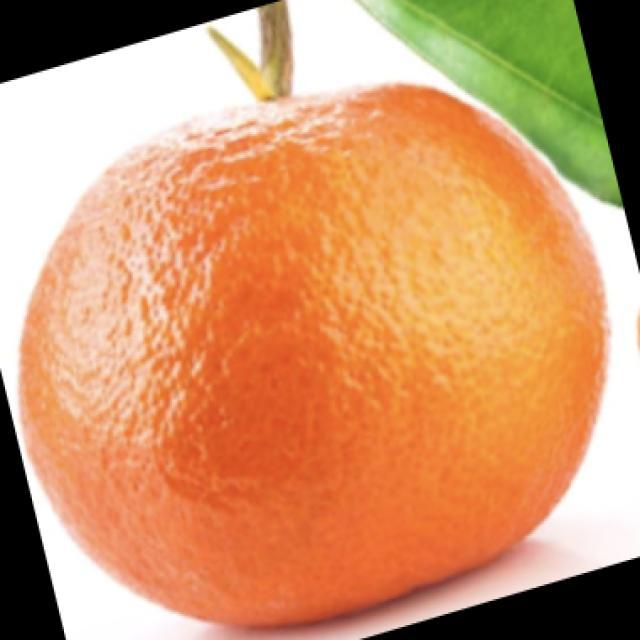matang: (21, 85, 605, 625)
